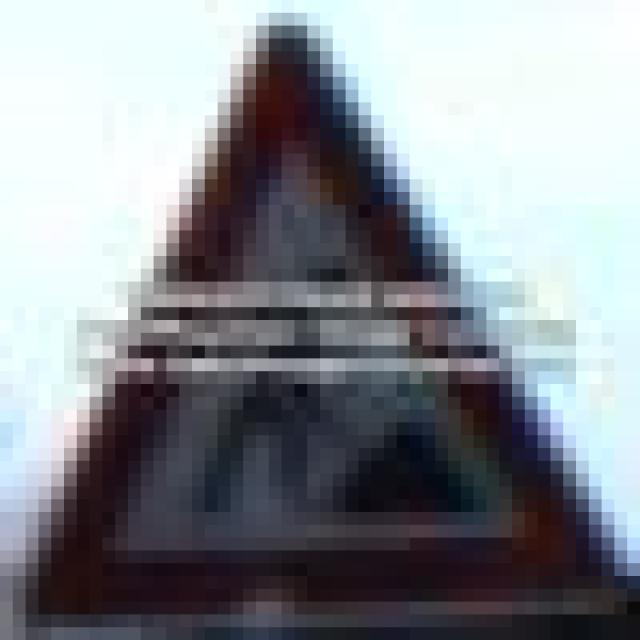road_work: (26, 13, 627, 589)
